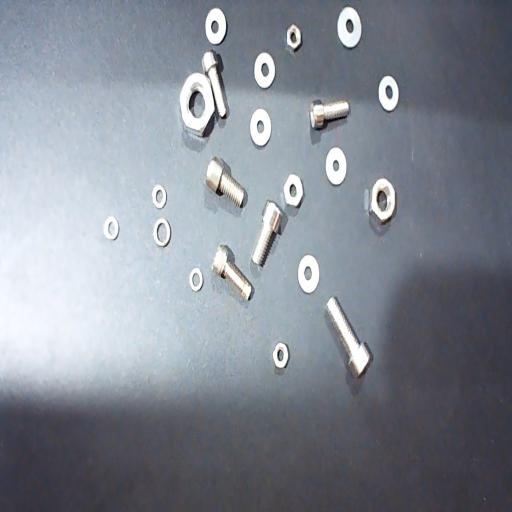nut: (180, 72, 215, 136), (369, 178, 396, 226), (284, 174, 302, 208), (286, 23, 302, 52), (273, 342, 288, 369)
screw: (326, 296, 371, 378), (212, 244, 252, 301), (205, 156, 245, 208), (252, 200, 282, 268), (202, 50, 226, 119), (309, 100, 349, 130)
washer: (337, 6, 361, 49), (325, 147, 347, 185), (298, 255, 320, 293), (378, 75, 399, 113), (250, 109, 271, 147), (254, 52, 275, 89), (206, 8, 226, 45), (153, 218, 171, 247), (104, 215, 119, 241), (152, 184, 166, 209), (190, 268, 204, 291)
